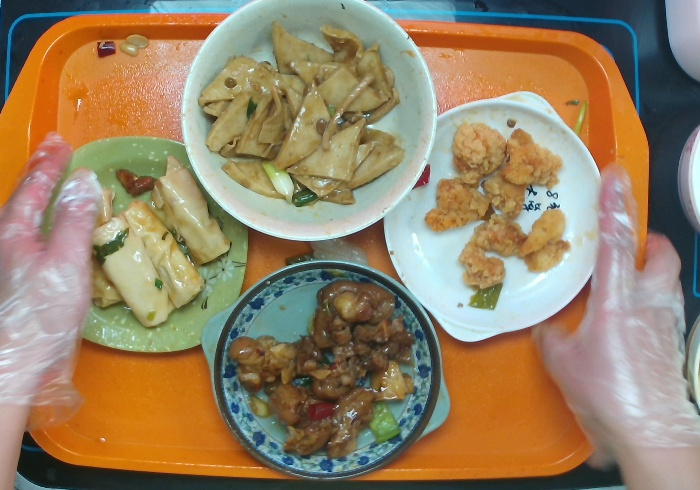NLDX-Bai_Se_Shuang_Er_Die: (387, 84, 615, 340)
NLDX-Bai_Se_Yuan_Wan: (178, 1, 434, 250)
NLDX-Lv_Hua_Fang_Die: (34, 136, 249, 359)
NLDX-Qing_Hua_Shuang_Er_Die: (198, 259, 453, 490)
